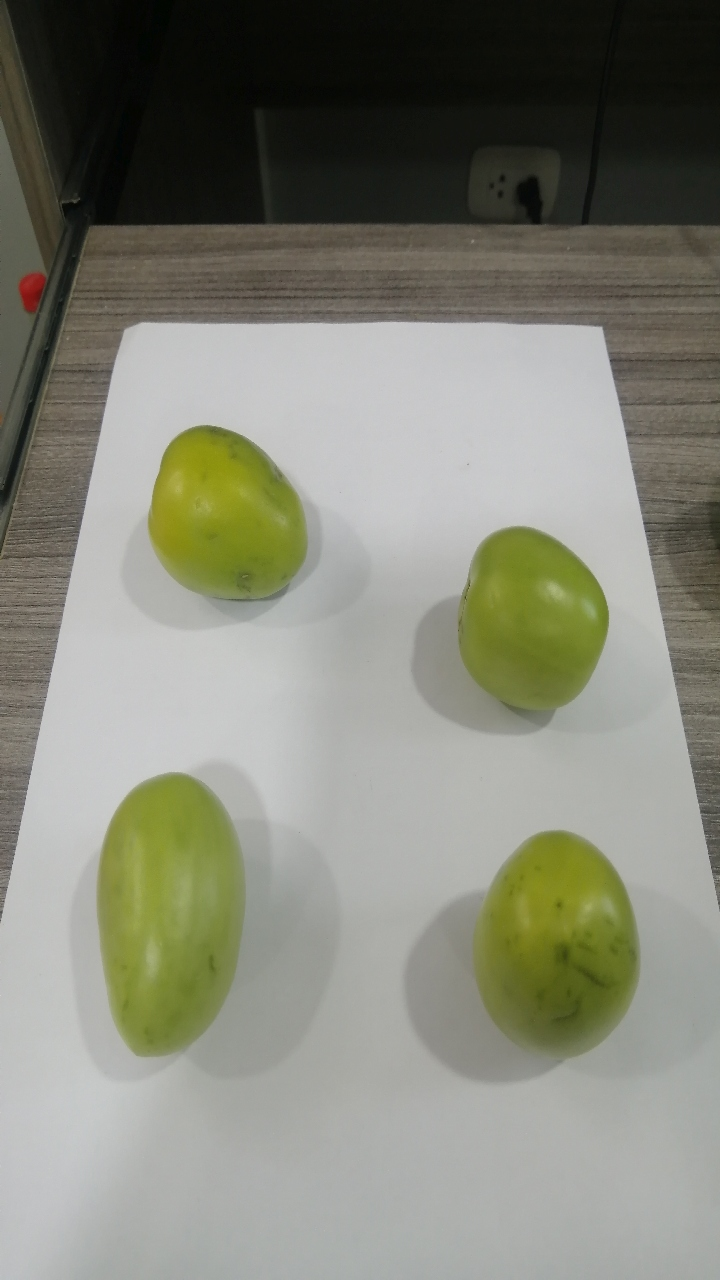tomateVerde: (74, 752, 254, 1068), (454, 811, 660, 1077), (129, 408, 357, 639), (440, 522, 637, 745)
